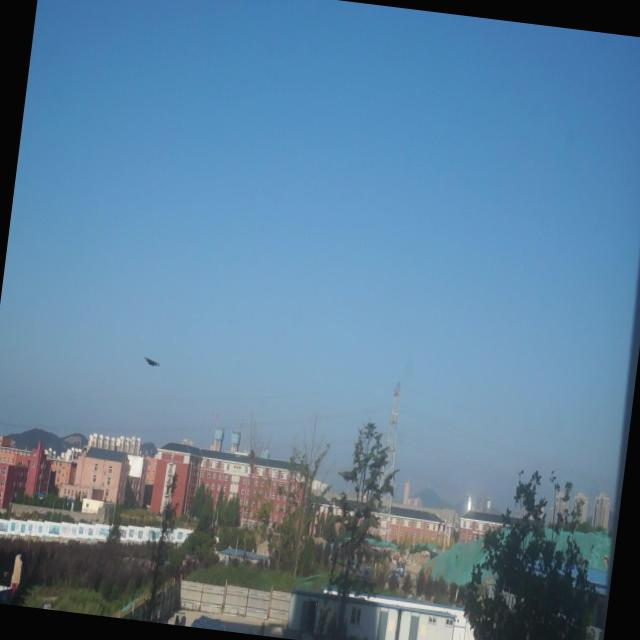drone: (144, 354, 164, 371)
